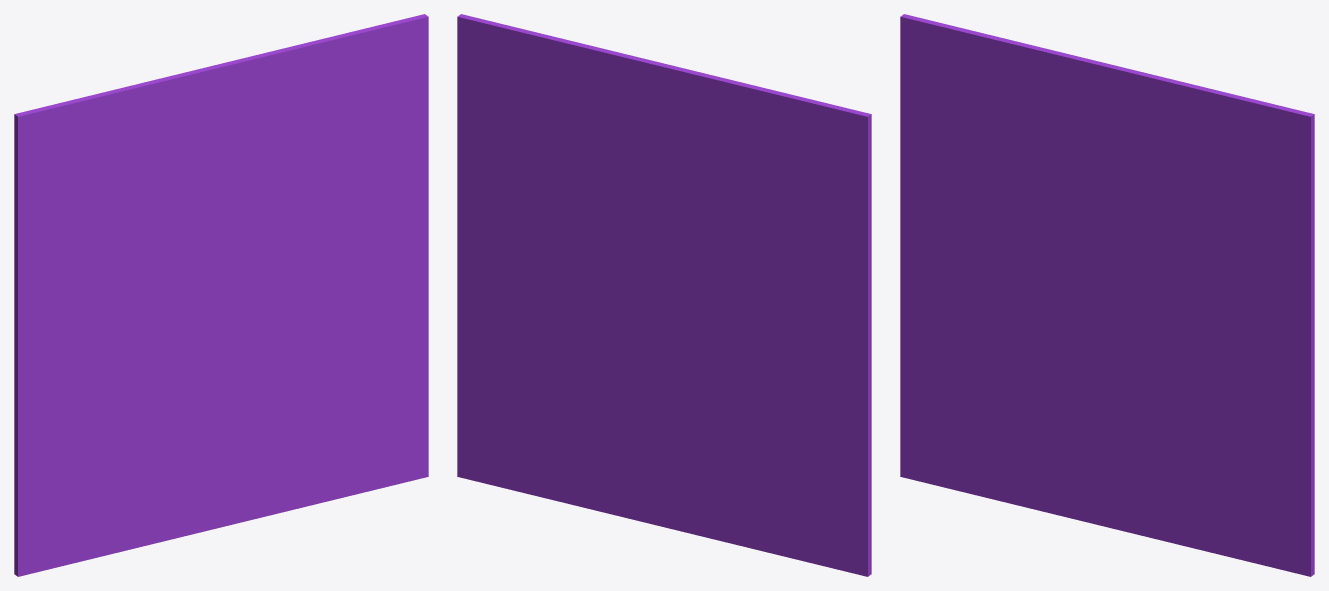
The model's file is Window_8_chunks.fbx.
3 views of the same model, side by side, from view 1: azimuth 30°, elevation 25°; view 2: azimuth 150°, elevation 25°; view 3: azimuth 330°, elevation 25° (orthographic).
Parts seen in each view (by area): view 1: Window_8_0, Window_8_1, Window_8_7, Window_8_3, Window_8_2, Window_8_6, Window_8_8, Window_8_5, Window_8_4; view 2: Window_8_0, Window_8_1, Window_8_3, Window_8_7, Window_8_2, Window_8_6, Window_8_5, Window_8_8, Window_8_4; view 3: Window_8_0, Window_8_1, Window_8_7, Window_8_3, Window_8_2, Window_8_6, Window_8_8, Window_8_5, Window_8_4.
Part boxes in pixels (bbox=[...]): Window_8_0: bbox=[83, 14, 428, 296]; Window_8_1: bbox=[229, 142, 428, 484]; Window_8_7: bbox=[151, 371, 396, 544]; Window_8_3: bbox=[14, 259, 119, 531]; Window_8_2: bbox=[14, 97, 138, 265]; Window_8_6: bbox=[14, 402, 175, 576]; Window_8_8: bbox=[127, 296, 295, 437]; Window_8_5: bbox=[115, 242, 219, 410]; Window_8_4: bbox=[109, 181, 180, 272]; Window_8_0: bbox=[457, 14, 805, 291]; Window_8_1: bbox=[457, 133, 663, 486]; Window_8_3: bbox=[770, 257, 871, 534]; Window_8_7: bbox=[499, 376, 735, 544]; Window_8_2: bbox=[738, 98, 871, 270]; Window_8_6: bbox=[715, 407, 871, 576]; Window_8_5: bbox=[662, 232, 774, 422]; Window_8_8: bbox=[598, 303, 754, 434]; Window_8_4: bbox=[704, 184, 765, 260]; Window_8_0: bbox=[965, 31, 1314, 299]; Window_8_1: bbox=[1112, 231, 1314, 576]; Window_8_7: bbox=[1034, 407, 1278, 568]; Window_8_3: bbox=[900, 160, 1001, 426]; Window_8_2: bbox=[900, 14, 1020, 209]; Window_8_6: bbox=[900, 356, 1057, 509]; Window_8_8: bbox=[1009, 295, 1177, 414]; Window_8_5: bbox=[997, 220, 1101, 360]; Window_8_4: bbox=[991, 139, 1063, 220].
Size of the model in its own units: 1728 by 1851 by 27.2.
